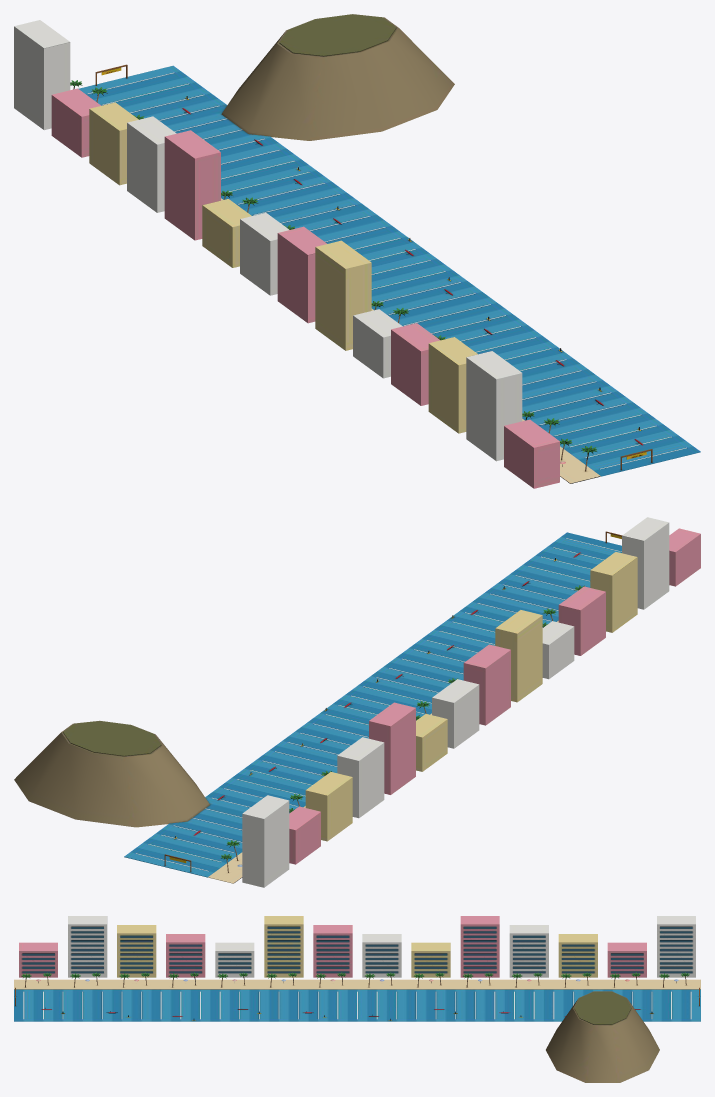
Rendered from playa_waikiki.glb.
3 views of the same model, one above another, from view 1: azimuth 30°, elevation 25°; view 2: azimuth 150°, elevation 25°; view 3: azimuth 270°, elevation 25° (orthographic). The views are drawn at different scales.
Parts seen in each view (by area): view 1: playa_waikiki; view 2: playa_waikiki; view 3: playa_waikiki.
Boxes of the visible parts, x1,y1,x2,y2 form: playa_waikiki: (14, 14, 700, 488); playa_waikiki: (14, 517, 700, 887); playa_waikiki: (14, 916, 700, 1082).
Bounding box in the file's own units: 164 × 36.2 × 420.
1 material, 1 textured.
